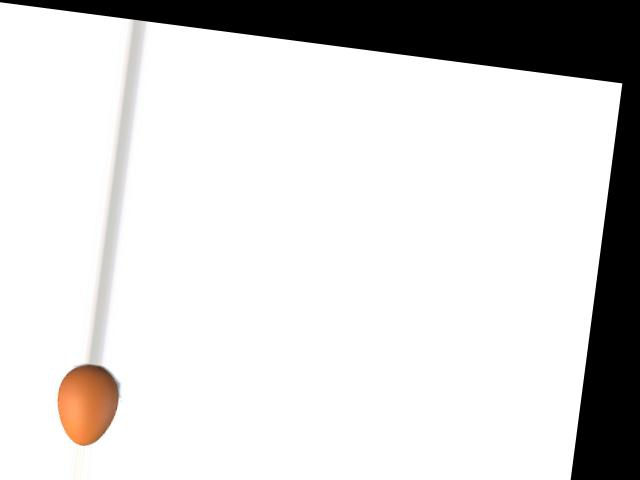egg: (52, 361, 122, 448)
